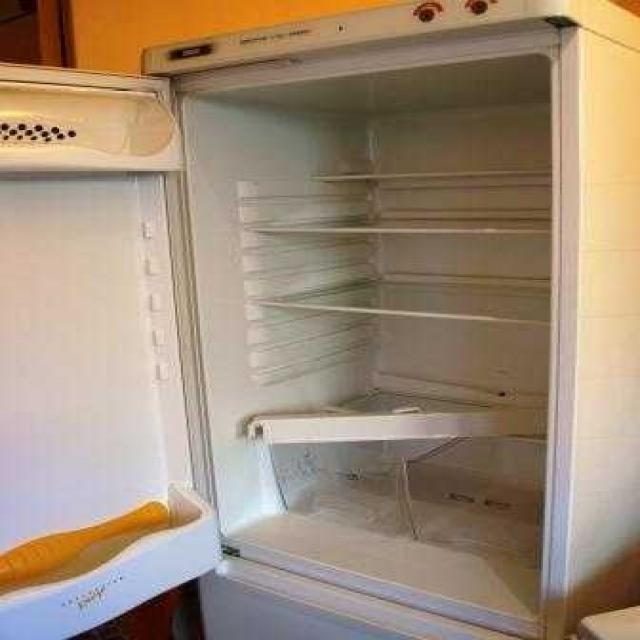refrigerator: (0, 0, 585, 640)
